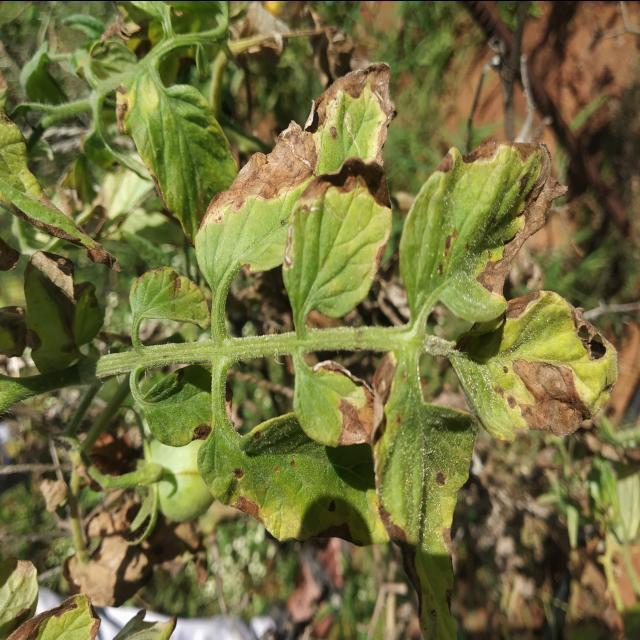Tomato mosaic virus leaf: (196, 58, 394, 284), (399, 130, 571, 297), (451, 290, 618, 444), (373, 384, 472, 634), (215, 423, 367, 553), (0, 108, 118, 274), (281, 158, 396, 318), (99, 61, 190, 217), (293, 357, 374, 445), (135, 365, 214, 445), (130, 265, 211, 326)
